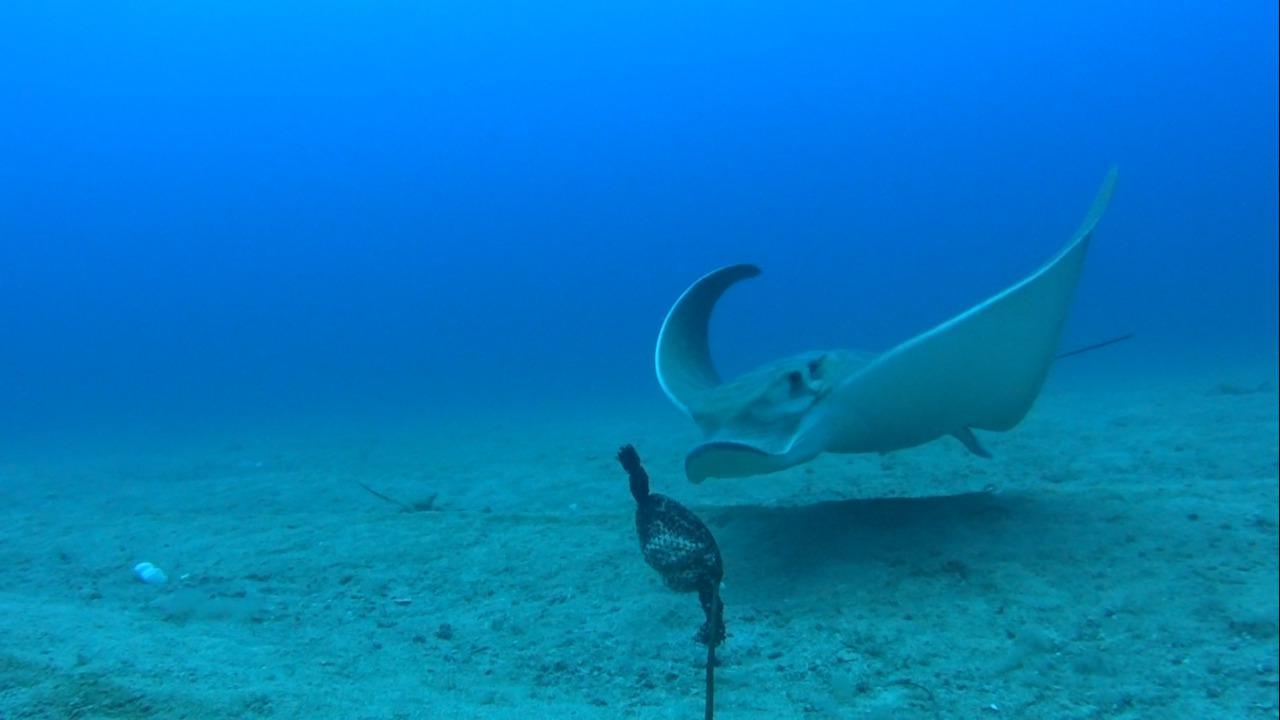myliobatis: (650, 158, 1148, 490)
